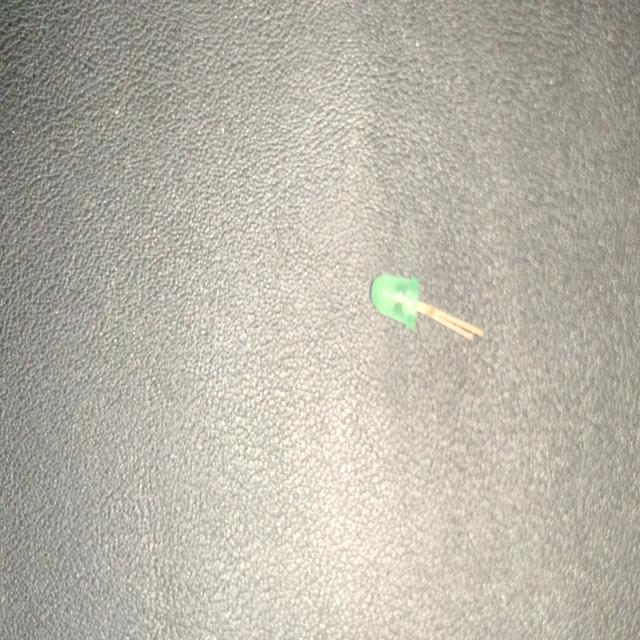LED: (370, 267, 484, 345)
